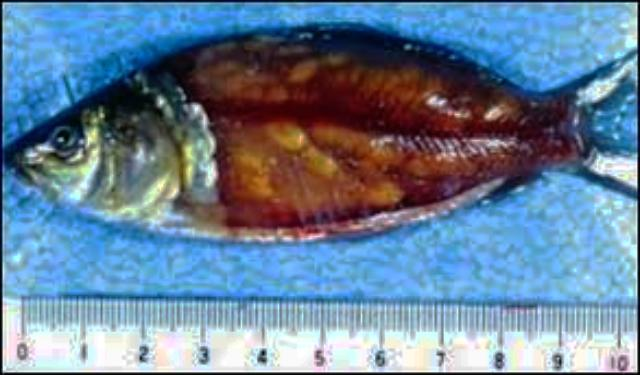Epizootic Ulcerative Syndrome -EUS-: (7, 26, 636, 240)
